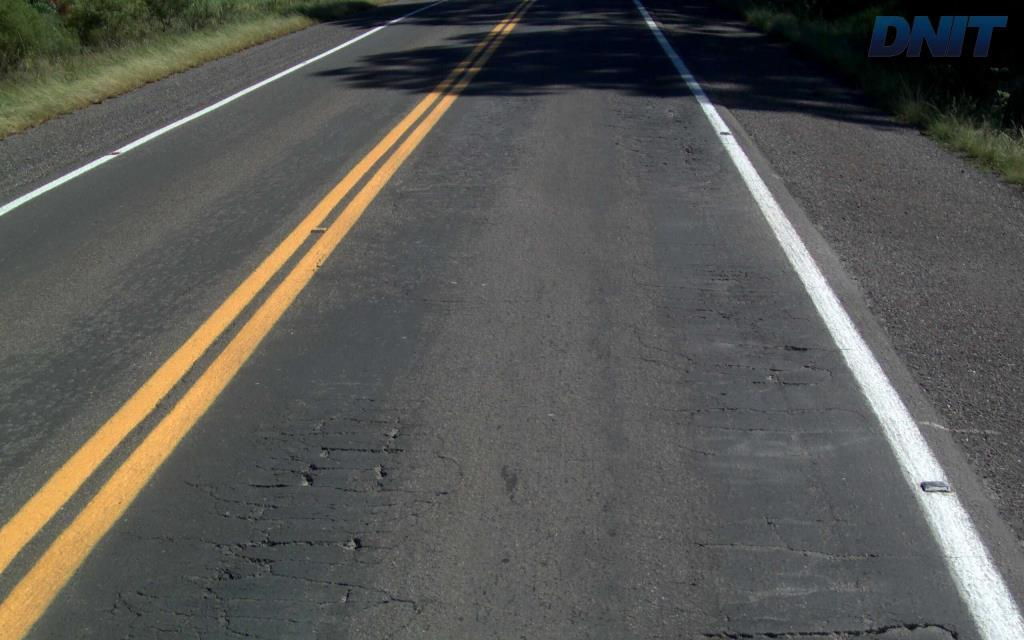crack: (198, 560, 257, 637), (204, 537, 288, 577), (833, 618, 959, 639), (249, 529, 336, 548), (698, 623, 796, 639)
